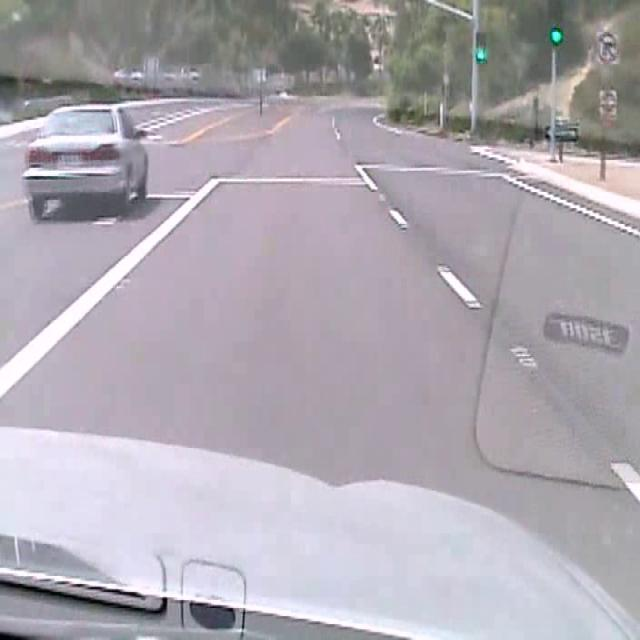noRightTurn: (594, 28, 621, 65)
